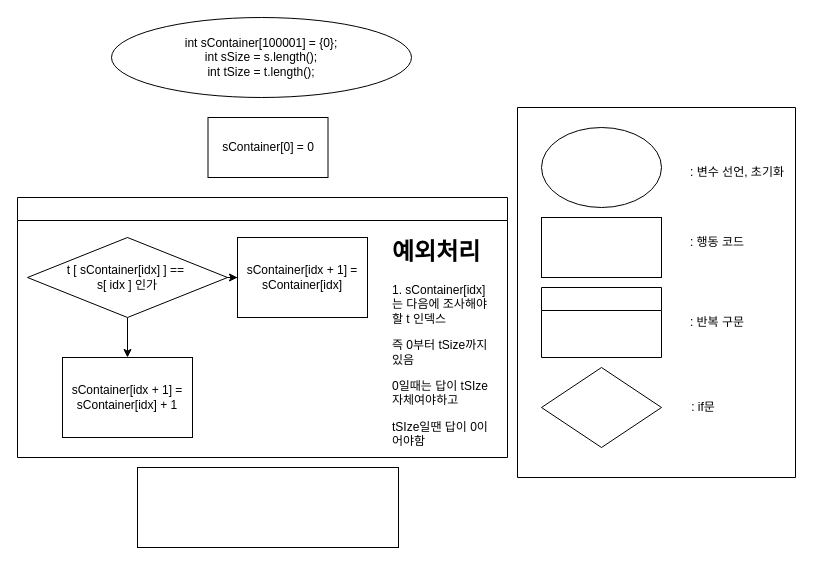
Some shapes in this 813 by 565 pixel diagram are drawn without their labels. The box of each missing label's shape, as (x1, y1, x2, y2) in pixels:
int idx = 0; idx < sSize; idx++: (16, 196, 508, 458)
return tSize - sContainer[sSize]: (136, 466, 398, 548)
~ 동안: (540, 286, 662, 358)
